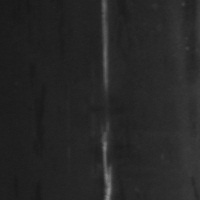scratches: (99, 1, 115, 98), (96, 126, 116, 200)
